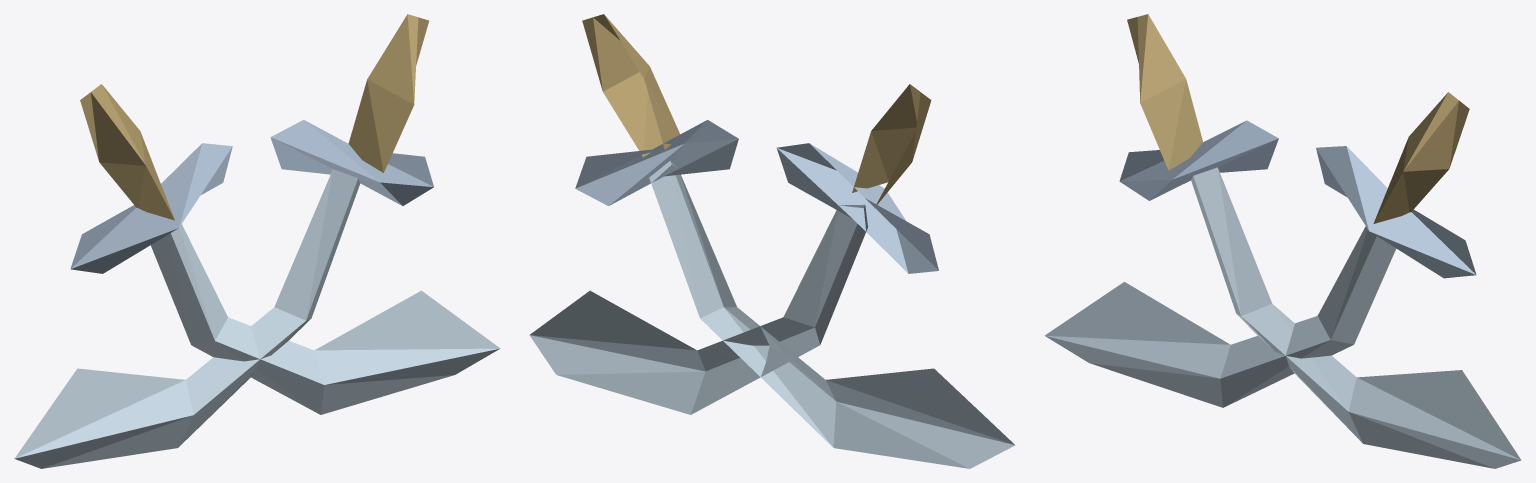
The model's file is Krummsäbel_2145.glb.
3 views of the same model, side by side, from view 1: azimuth 30°, elevation 25°; view 2: azimuth 150°, elevation 25°; view 3: azimuth 330°, elevation 25° (orthographic).
Visible parts, largest first — view 1: pPlaneShape166, pPlaneShape163, pPlaneShape164, pPlaneShape168, pPlaneShape167, pPlaneShape165; view 2: pPlaneShape166, pPlaneShape163, pPlaneShape164, pPlaneShape167, pPlaneShape168, pPlaneShape165; view 3: pPlaneShape166, pPlaneShape163, pPlaneShape167, pPlaneShape165, pPlaneShape164, pPlaneShape168.
Part boxes in pixels (x1,y1,x2,y2): pPlaneShape166: (14, 169, 360, 468); pPlaneShape163: (150, 224, 500, 414); pPlaneShape164: (70, 143, 232, 273); pPlaneShape168: (348, 14, 428, 172); pPlaneShape167: (270, 120, 433, 205); pPlaneShape165: (80, 84, 174, 220); pPlaneShape166: (649, 160, 1015, 468); pPlaneShape163: (529, 204, 867, 414); pPlaneShape164: (776, 143, 938, 273); pPlaneShape167: (575, 120, 738, 205); pPlaneShape168: (582, 14, 680, 156); pPlaneShape165: (852, 84, 931, 208); pPlaneShape166: (1044, 226, 1396, 407); pPlaneShape163: (1191, 167, 1521, 468); pPlaneShape167: (1316, 146, 1476, 278); pPlaneShape165: (1127, 14, 1202, 170); pPlaneShape164: (1119, 120, 1278, 200); pPlaneShape168: (1373, 92, 1469, 223).
Bounding box in the file's own units: 0.1867 × 0.1412 × 0.0184.
